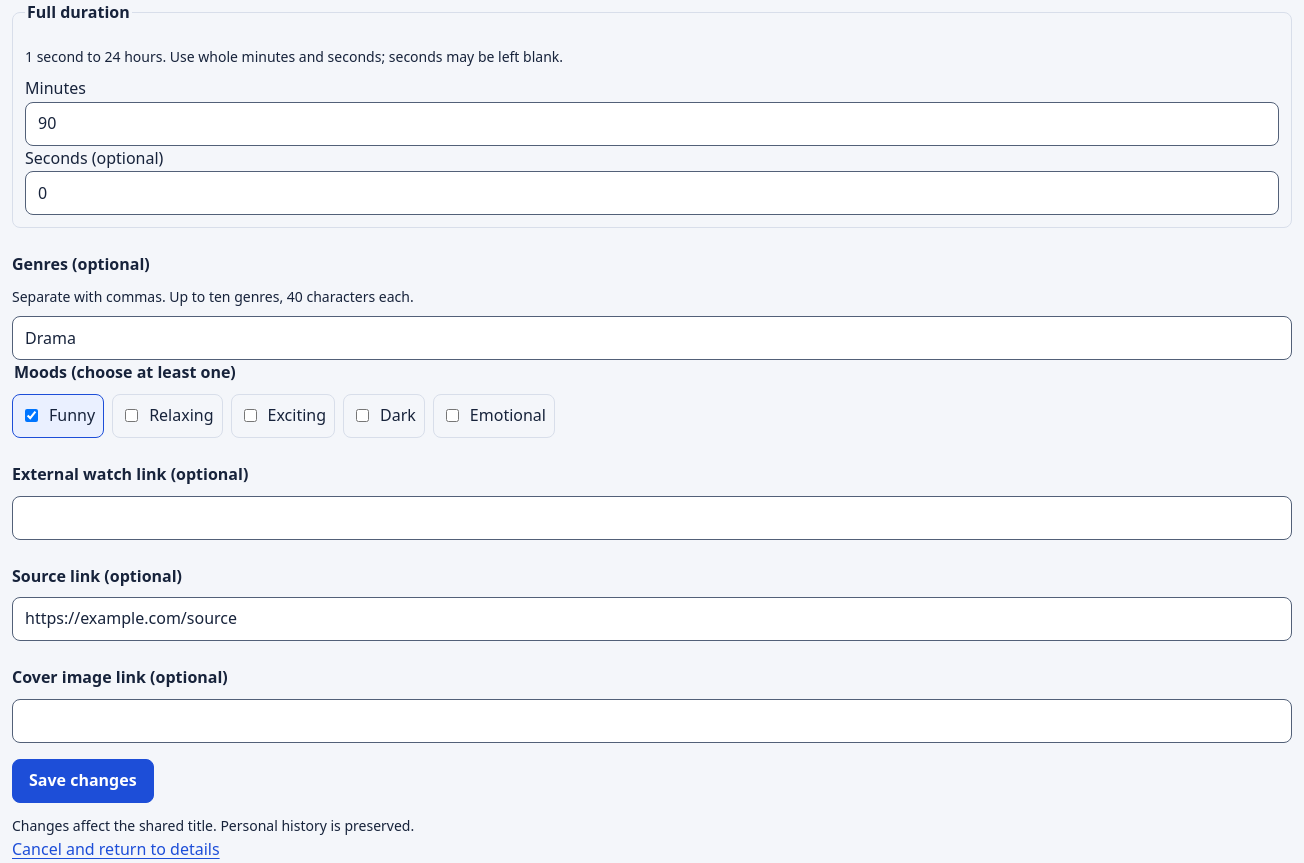
Test: associates URL validation, disables pending actions and retains retry input
This screenshot has width=1304, height=863.
(page scrolled)
Click the button "Save changes".
click(83, 781)  # box [12, 759, 154, 803]
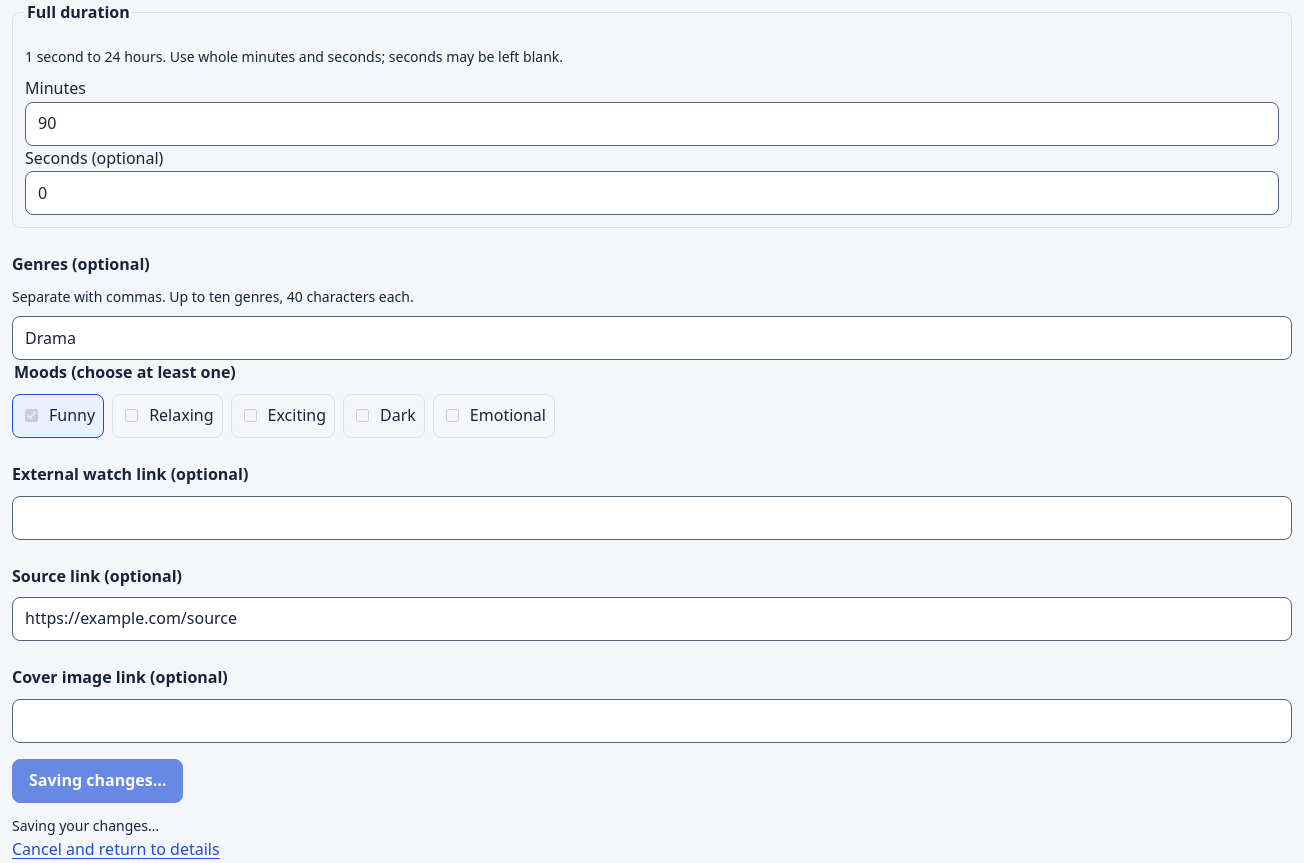
Click the button "Saving changes…".
click(98, 781)  # box [12, 759, 183, 803]
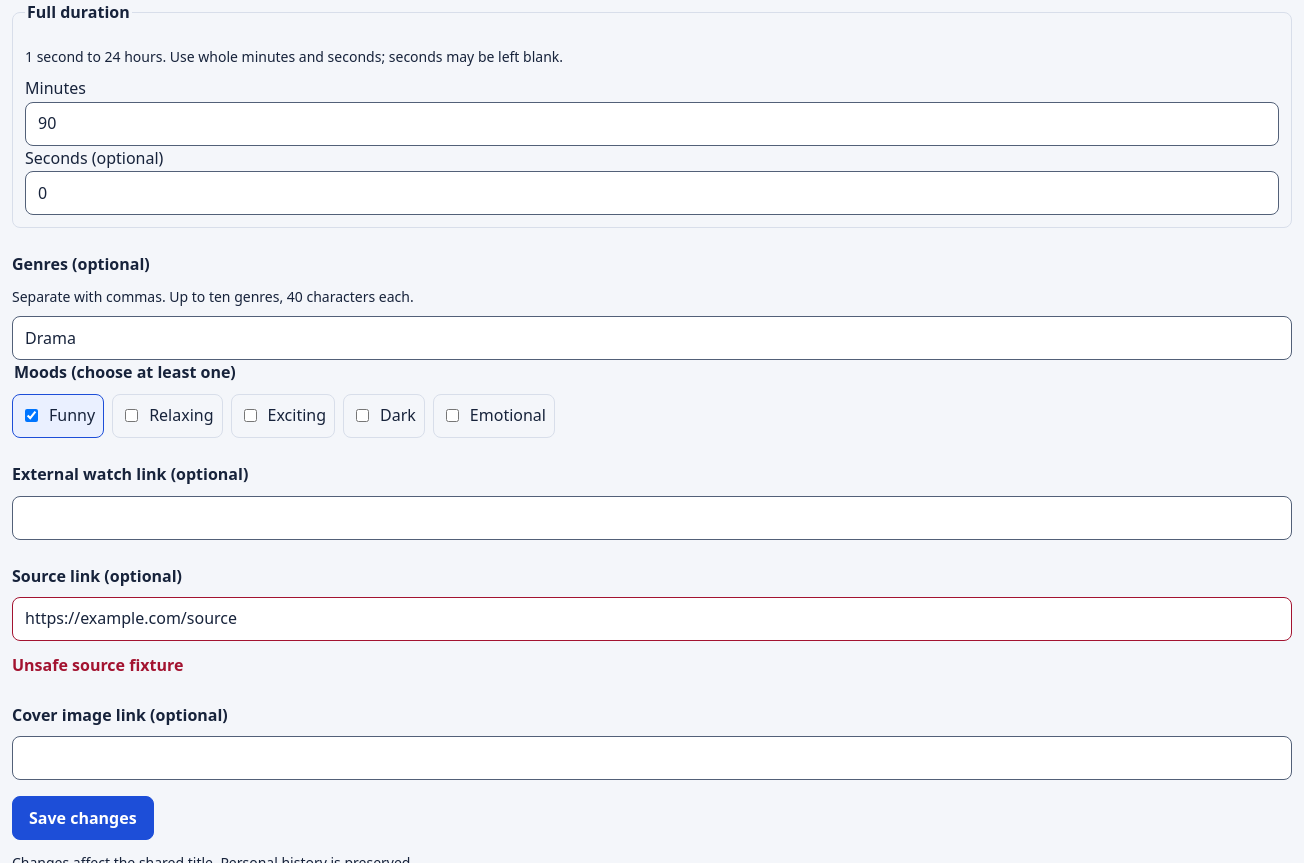
Now the text "Unsafe source fixture" is shown, box [12, 654, 183, 676]
